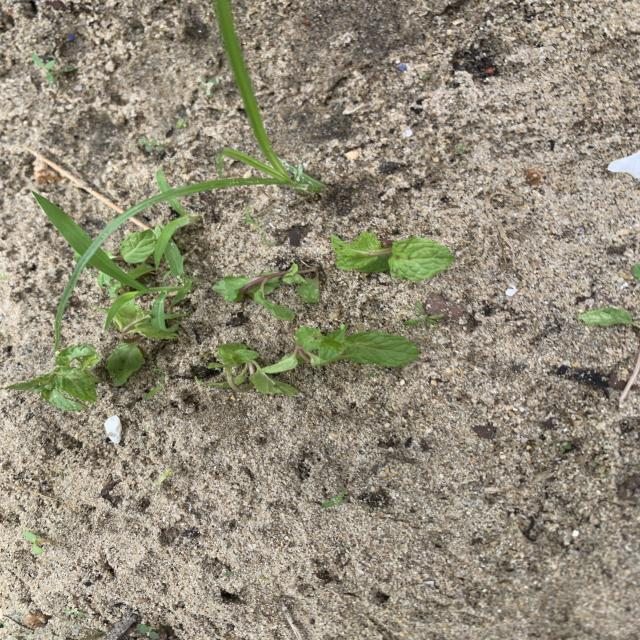crop: (252, 325, 419, 396), (106, 292, 178, 386), (4, 345, 101, 411), (212, 263, 320, 322), (330, 231, 455, 281), (197, 343, 298, 397), (114, 230, 159, 265), (90, 271, 123, 300), (106, 417, 121, 443)
weed: (168, 0, 325, 198), (32, 191, 146, 290), (149, 170, 225, 265)
